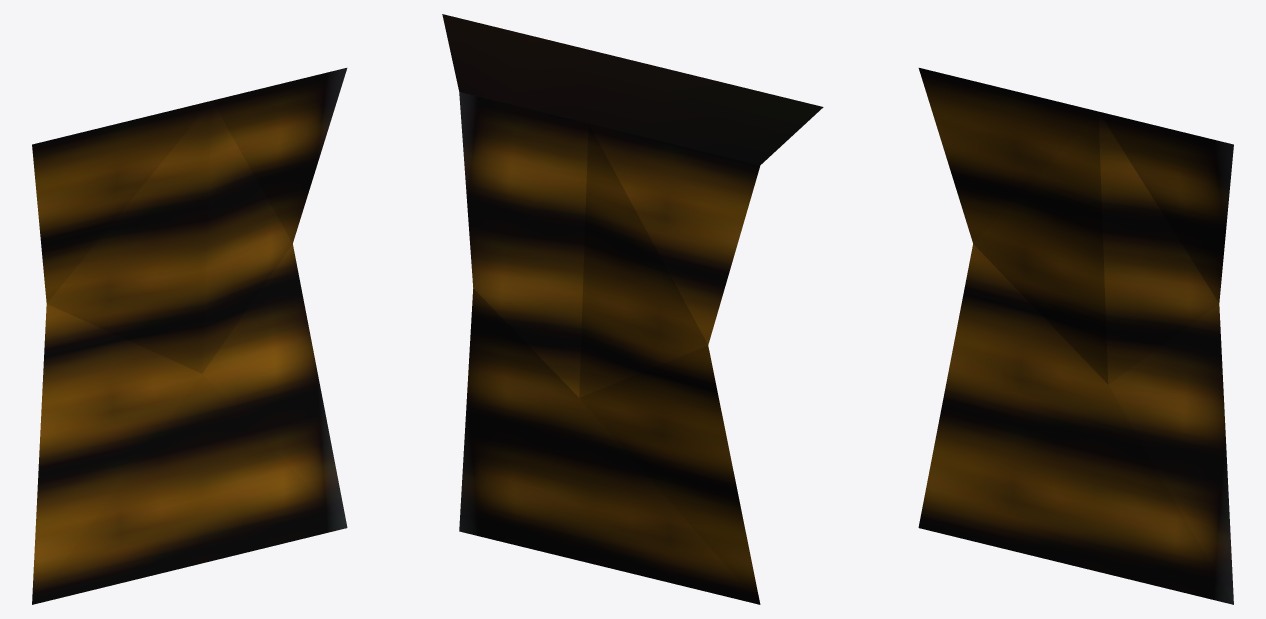
Rendered from W_A1_x [Beige]_92.glb.
3 views of the same model, side by side, from view 1: azimuth 30°, elevation 25°; view 2: azimuth 150°, elevation 25°; view 3: azimuth 330°, elevation 25° (orthographic). The views are drawn at different scales.
Visible parts, largest first — view 1: polySurfaceShape1201; view 2: polySurfaceShape1201, polySurfaceShape1203; view 3: polySurfaceShape1201.
Part boxes in pixels (x1,y1,x2,y2): polySurfaceShape1201: (32, 68, 347, 604); polySurfaceShape1201: (459, 92, 760, 604); polySurfaceShape1203: (442, 14, 823, 165); polySurfaceShape1201: (918, 68, 1233, 604).
Bounding box in the file's own units: 0.3166 × 0.3891 × 0.0607.
Materials: 2 (2 with a texture image).
